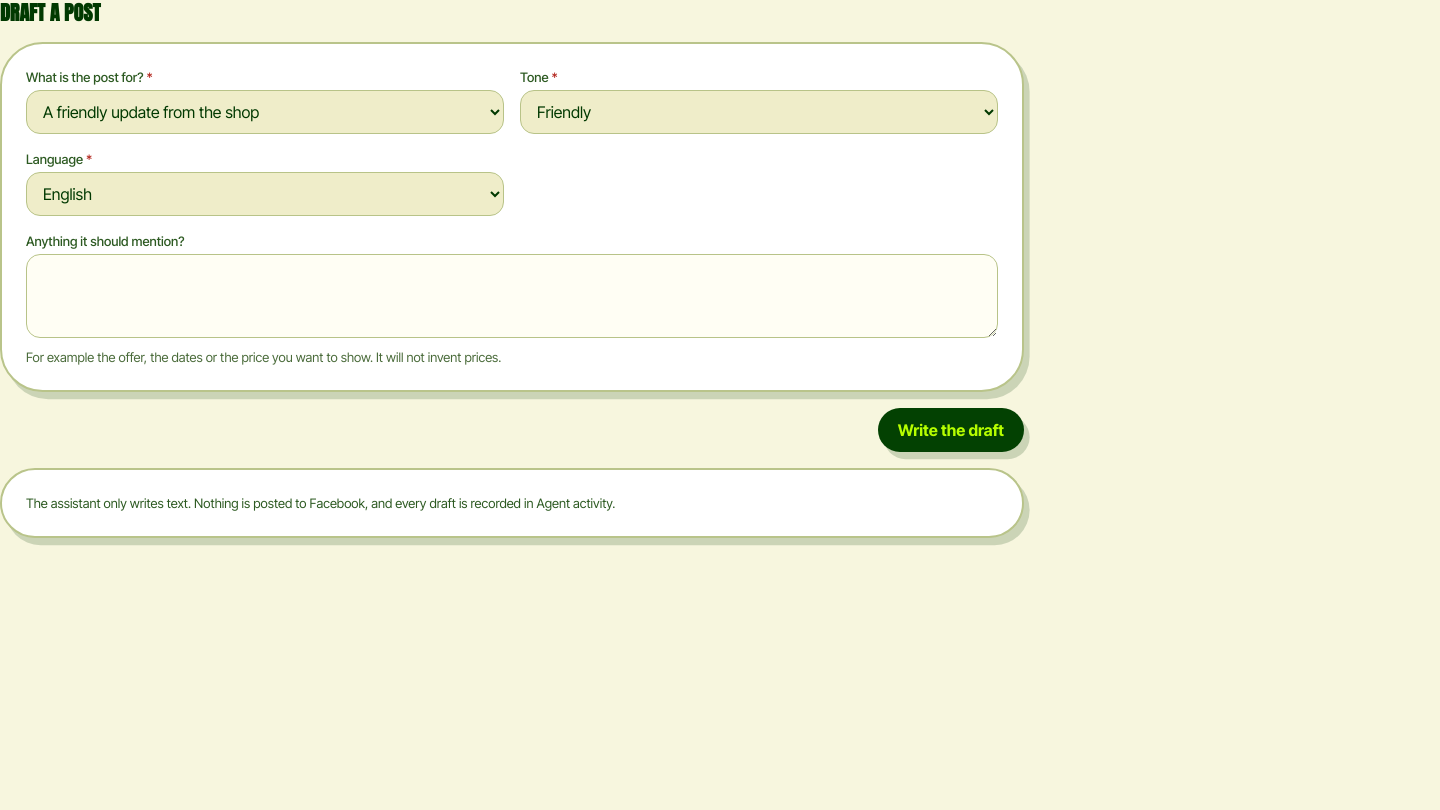
Test: Draft a post (PRD F-014) › promoting a product needs a product, and the product comes from a search dialog
The width and height of the screenshot is (1440, 810).
Select "Promote a product" in the dropdown labelled "What is the post for? *" at (265, 112), box x1=26 y1=90 x2=504 y2=134
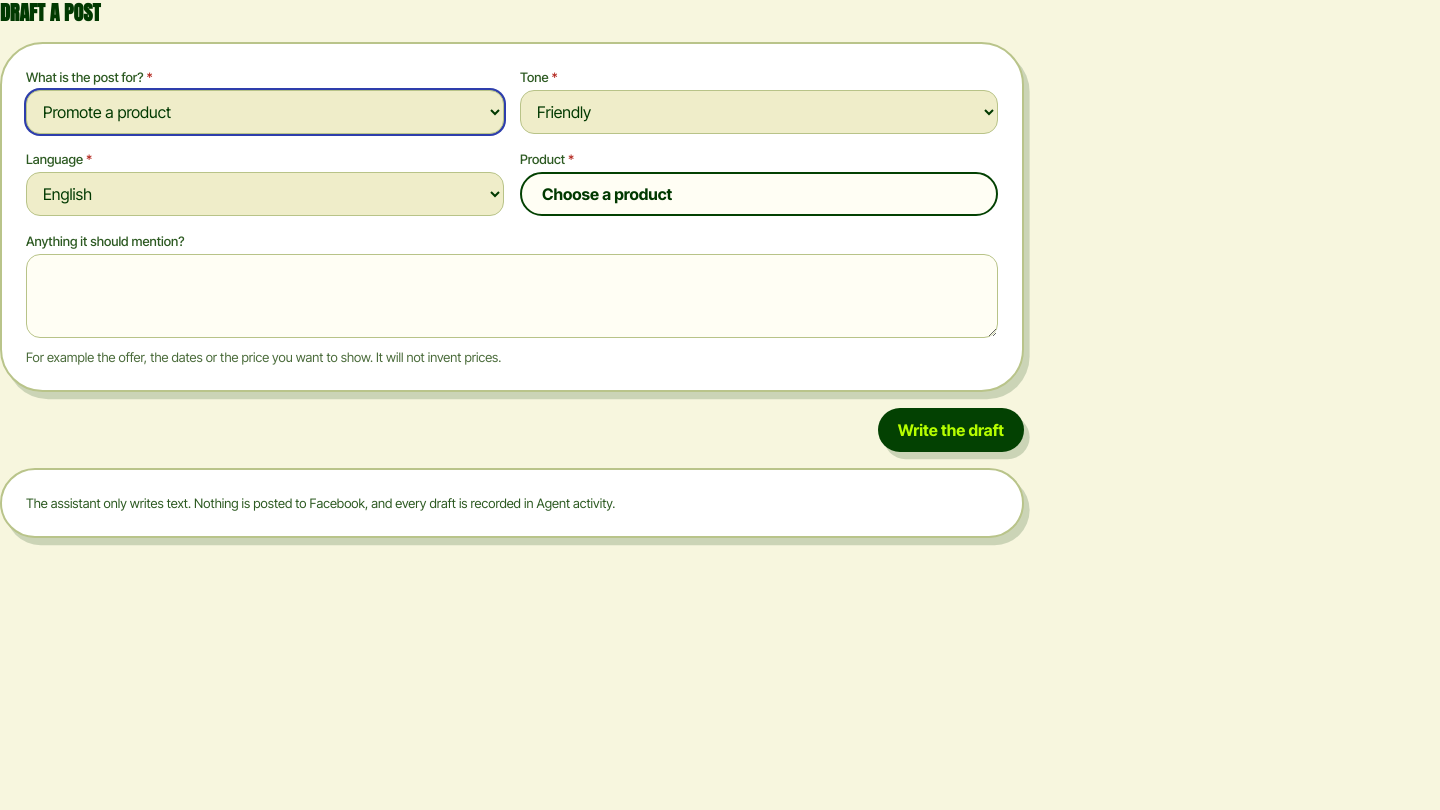
Click the button "Write the draft" at (951, 430), box x1=878 y1=408 x2=1024 y2=452
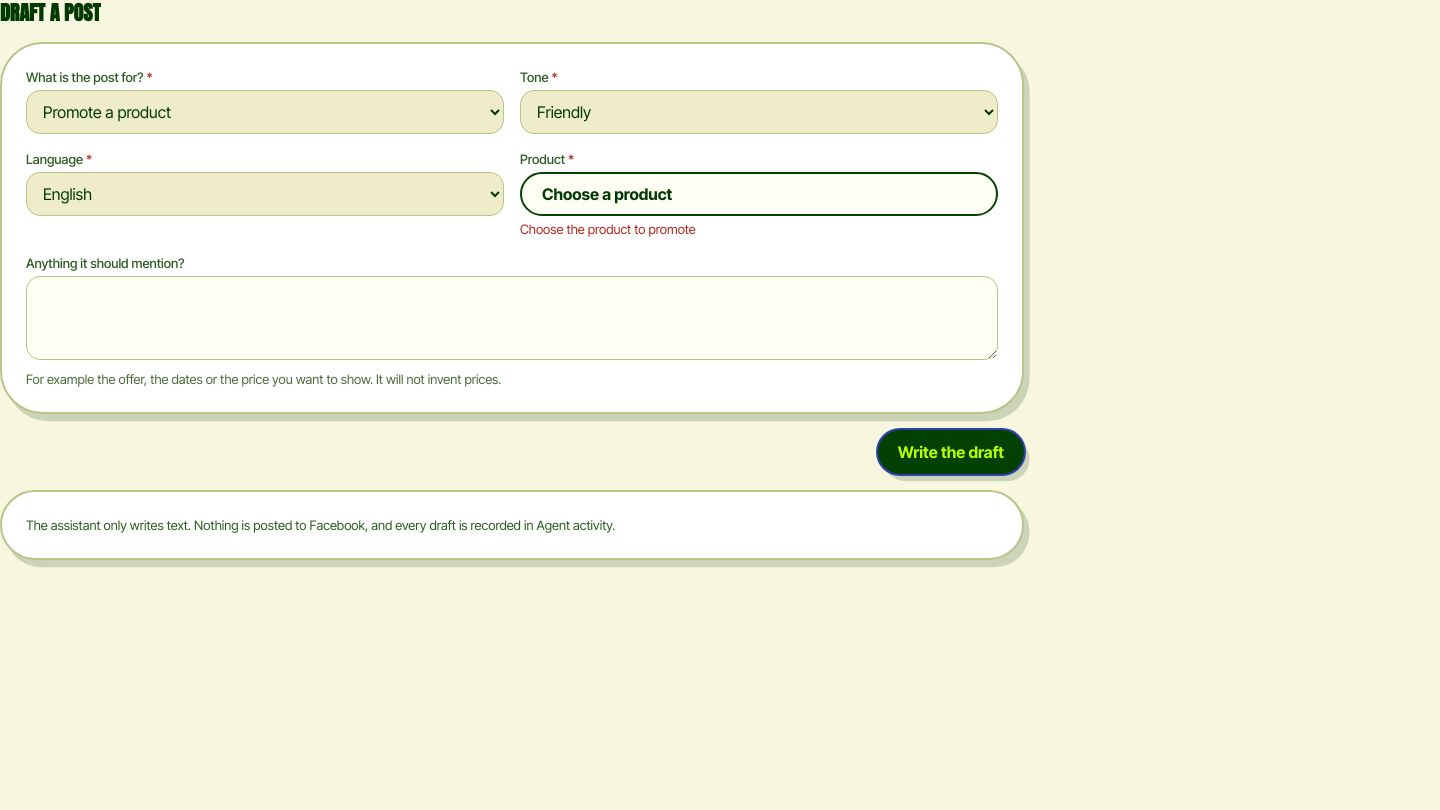
Expected: the text "Choose the product to promote" is shown, x1=520 y1=221 x2=696 y2=237
Click the button with aria-label "Product: none chosen" at (607, 194), box x1=520 y1=172 x2=998 y2=216
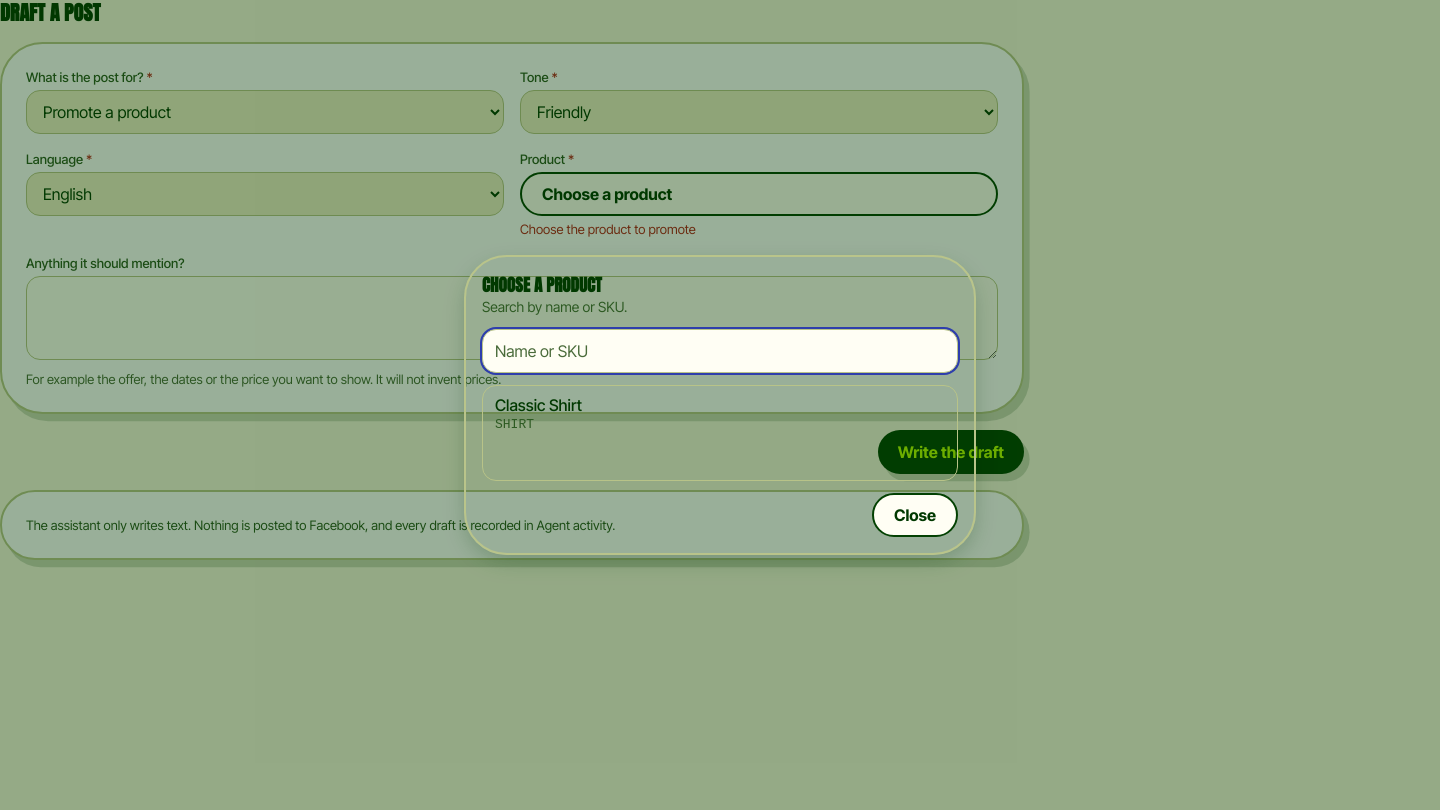
Click the button "Classic Shirt SHIRT" at (539, 405), box x1=483 y1=386 x2=957 y2=442
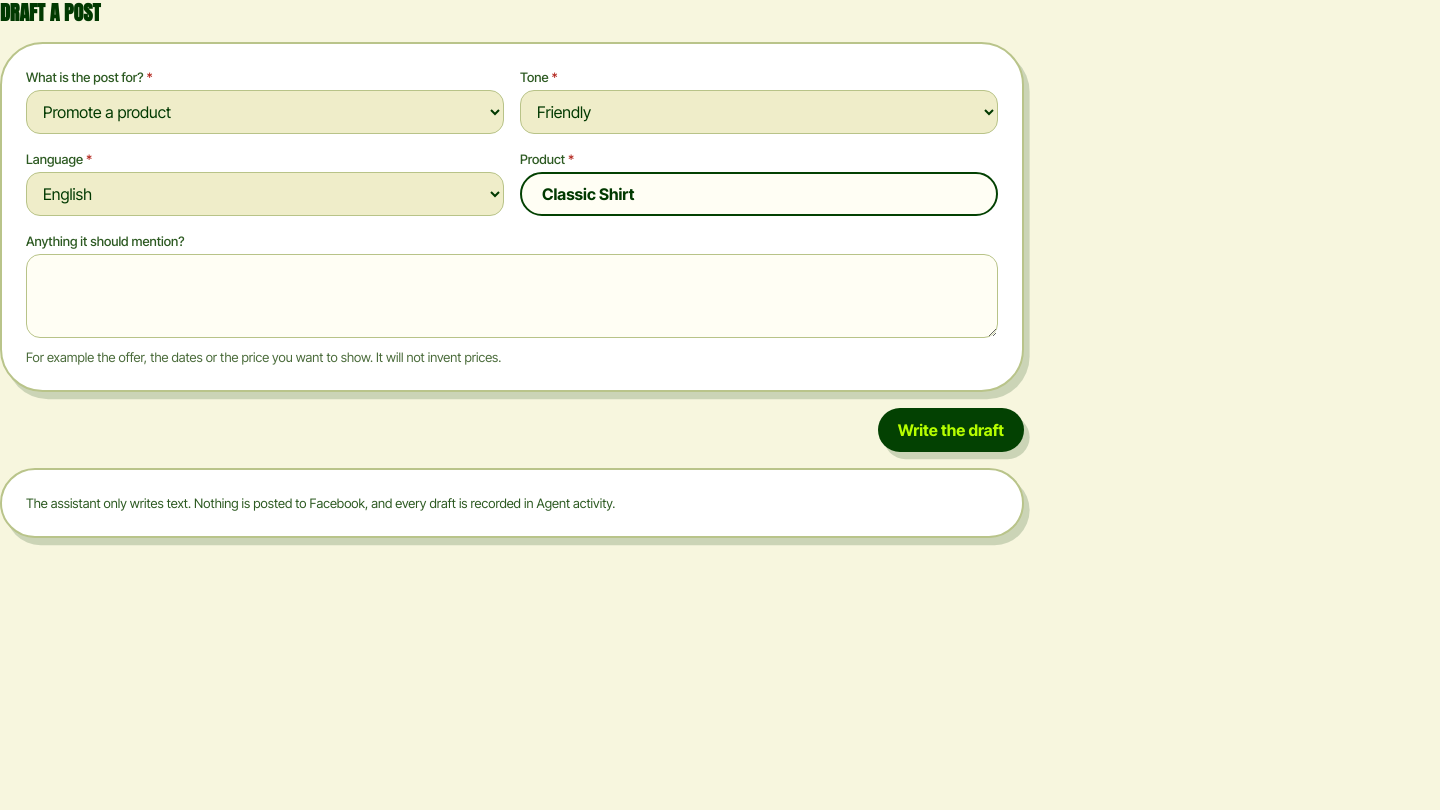
Expected: the button with aria-label "Product: Classic Shirt. Change" is shown, x1=520 y1=172 x2=998 y2=216
Expected: the text "Choose the product to promote" is gone
